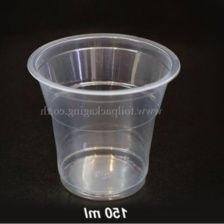glass: (10, 26, 191, 204)
